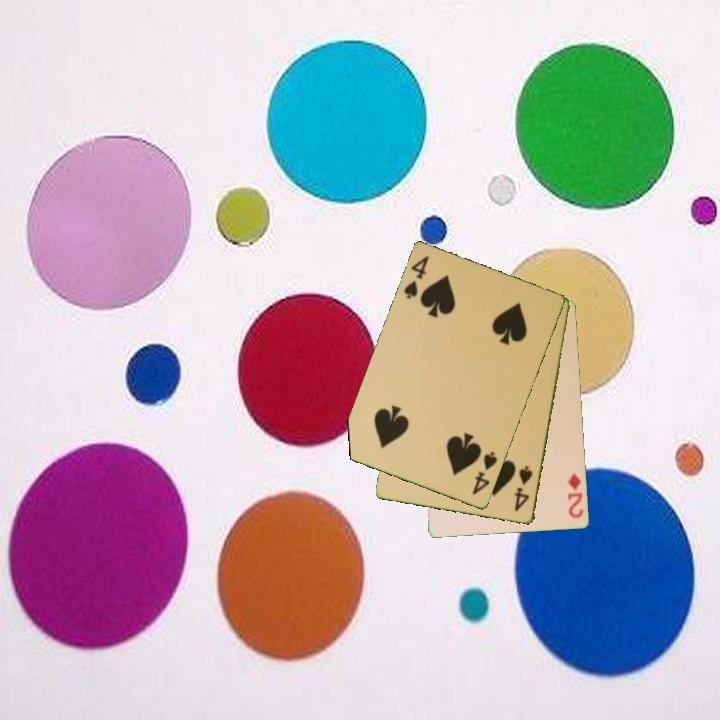2d: (564, 470, 587, 521)
4s: (400, 253, 432, 302), (469, 448, 500, 498), (511, 462, 536, 515)
